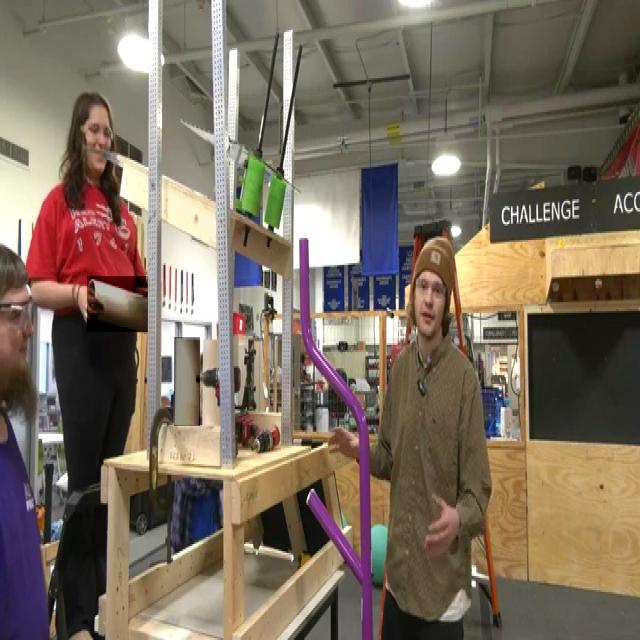Coral: (87, 276, 148, 332), (174, 337, 200, 426)
